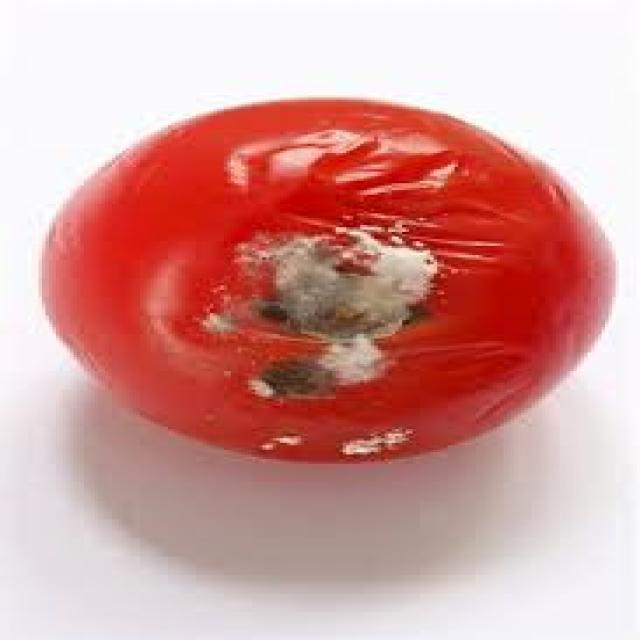organic waste: (38, 98, 612, 459)
